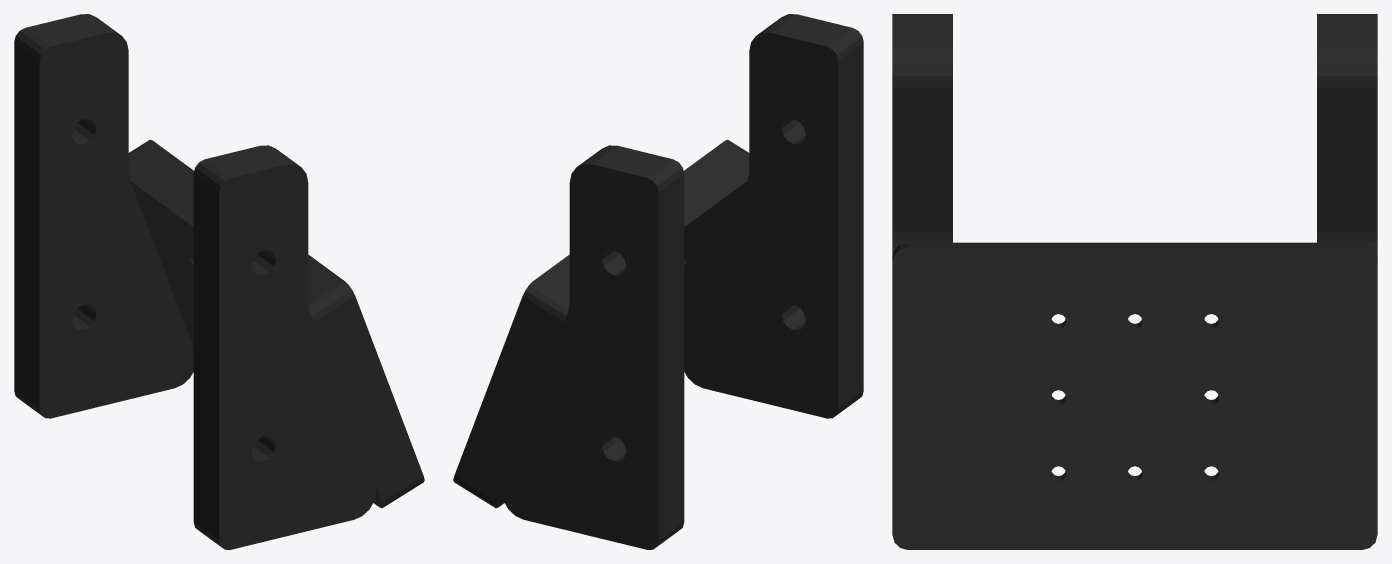
The model's file is creative_mount.min.dae.
The picture shows the model from 3 angles, left to right: view 1: azimuth 30°, elevation 25°; view 2: azimuth 150°, elevation 25°; view 3: azimuth 270°, elevation 25°; orthographic projection. The views are drawn at different scales.
Visible parts, largest first — view 1: SketchUp; view 2: SketchUp; view 3: SketchUp.
Part boxes in pixels (bbox=[...]): SketchUp: bbox=[14, 14, 424, 549]; SketchUp: bbox=[453, 14, 863, 549]; SketchUp: bbox=[892, 14, 1377, 549].
Size of the model in its own units: 1.17 by 2 by 2.
Materials: 1 (1 with a texture image).
